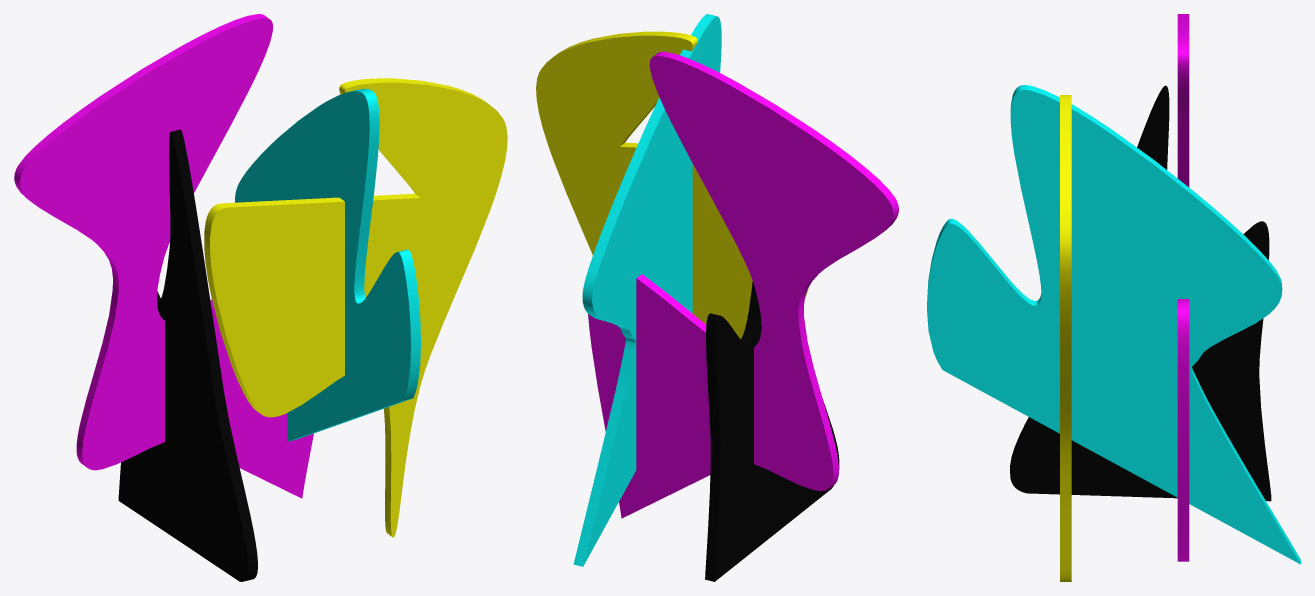
3 views of the same model, side by side, from view 1: azimuth 30°, elevation 25°; view 2: azimuth 150°, elevation 25°; view 3: azimuth 270°, elevation 25° (orthographic). The views are drawn at different scales.
Parts seen in each view (by area): view 1: Body25, Body16, Body17, Body24; view 2: Body16, Body25, Body24, Body17; view 3: Body24, Body17, Body25, Body16.
Part boxes in pixels (x1,y1,x2,y2): Body25: (204,78,507,537); Body16: (14,14,313,498); Body17: (118,129,257,581); Body24: (235,88,420,441); Body16: (588,51,898,518); Body25: (536,31,808,339); Body24: (573,14,721,566); Body17: (705,281,839,581); Body24: (927,85,1300,564); Body17: (1010,85,1271,501); Body25: (1060,95,1071,581); Body16: (1177,14,1189,561).
Bounding box in the file's own units: 8.57 × 9.47 × 6.4.
